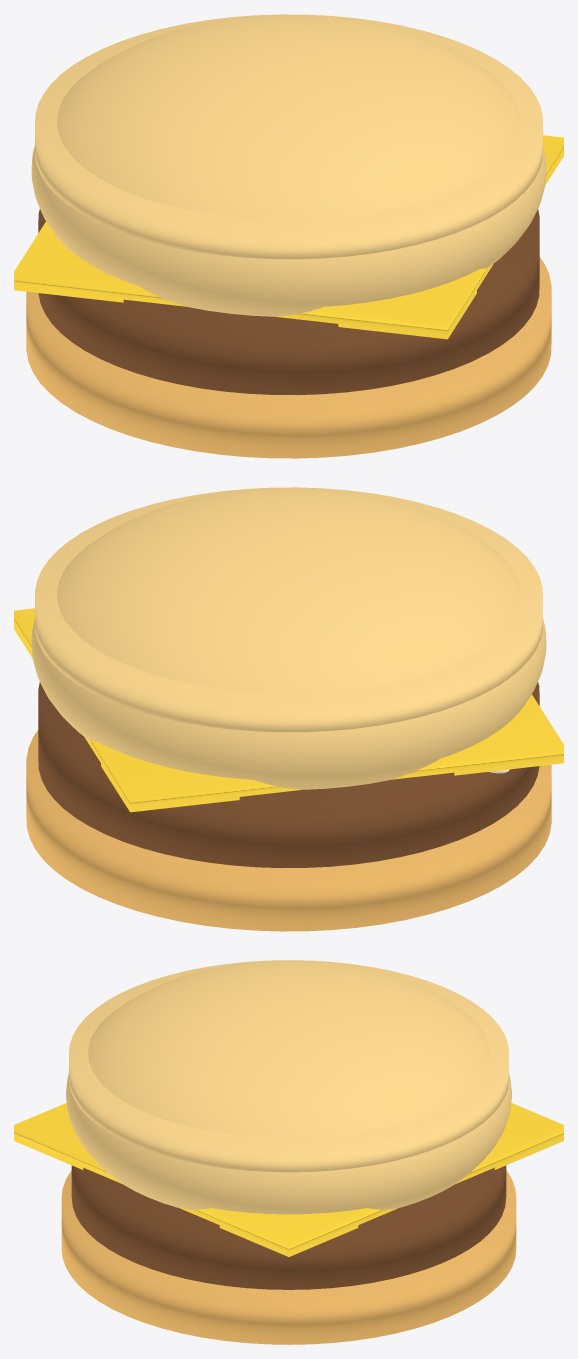
File: burger.glb
3 renders of one model, top to bottom at view 1: azimuth 30°, elevation 25°; view 2: azimuth 150°, elevation 25°; view 3: azimuth 270°, elevation 25°, orthographic. The views are drawn at different scales.
Visible parts, largest first — view 1: world; view 2: world; view 3: world.
Part boxes in pixels (x1,y1,x2,y2): world: [14, 14, 563, 458]; world: [14, 487, 563, 931]; world: [14, 960, 563, 1344].
Bounding box in the file's own units: 0.13 × 0.0651 × 0.13.
